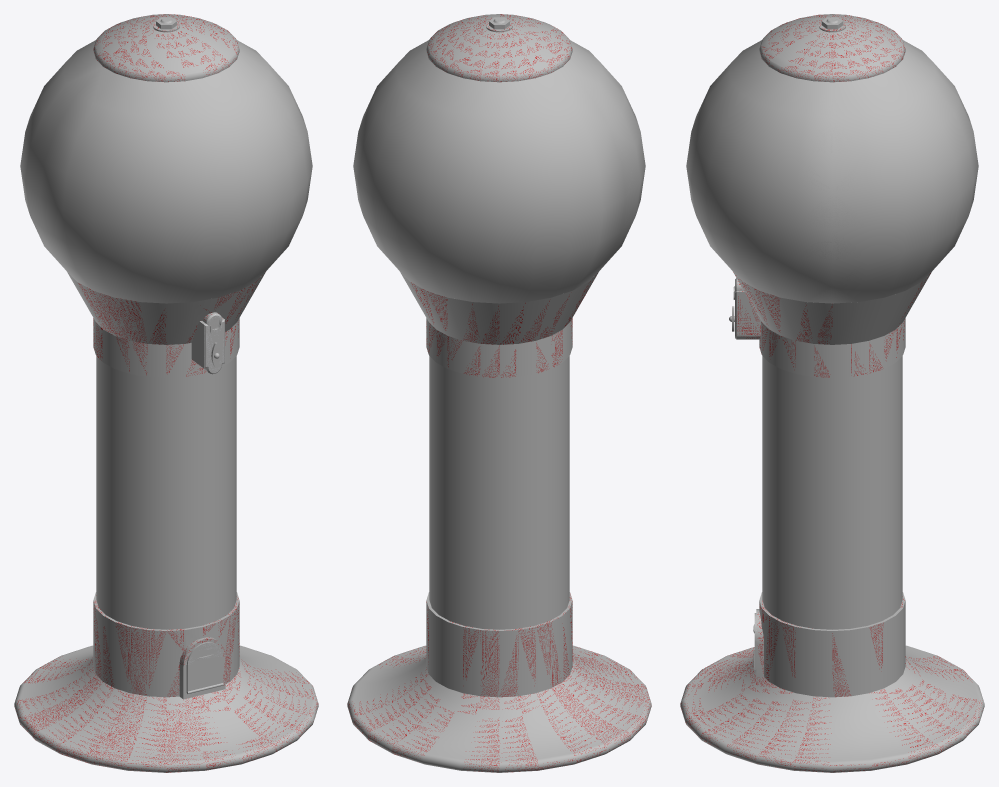
The model's file is gumball-machine-transformed.glb.
3 views of the same model, side by side, from view 1: azimuth 30°, elevation 25°; view 2: azimuth 150°, elevation 25°; view 3: azimuth 270°, elevation 25° (orthographic).
Parts seen in each view (by area): view 1: SketchUp.002, SketchUp, SketchUp.012; view 2: SketchUp.002, SketchUp, SketchUp.012; view 3: SketchUp.002, SketchUp, SketchUp.012.
Part boxes in pixels (bbox=[...]): SketchUp.002: bbox=[14, 14, 318, 772]; SketchUp: bbox=[20, 40, 312, 303]; SketchUp.012: bbox=[98, 357, 235, 628]; SketchUp.002: bbox=[347, 14, 651, 772]; SketchUp: bbox=[353, 40, 645, 303]; SketchUp.012: bbox=[430, 357, 567, 628]; SketchUp.002: bbox=[680, 14, 984, 772]; SketchUp: bbox=[686, 40, 978, 303]; SketchUp.012: bbox=[762, 356, 902, 629].
Bounding box in the file's own units: 0.635 × 1.59 × 0.635.
Materials: 3 (3 with a texture image).
